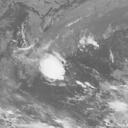cyclone: (37, 54, 65, 81)
